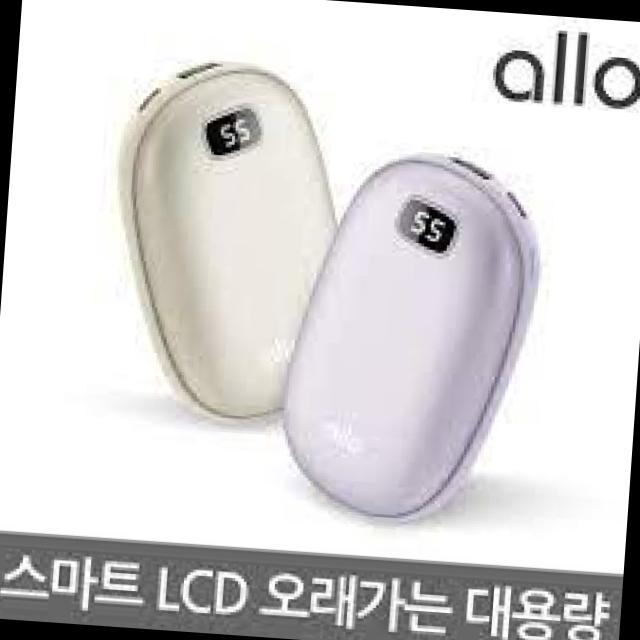power_bank: (270, 140, 544, 531), (107, 48, 355, 424)
